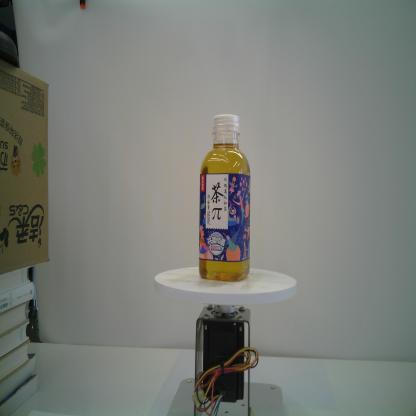Drink: (198, 112, 251, 282)
